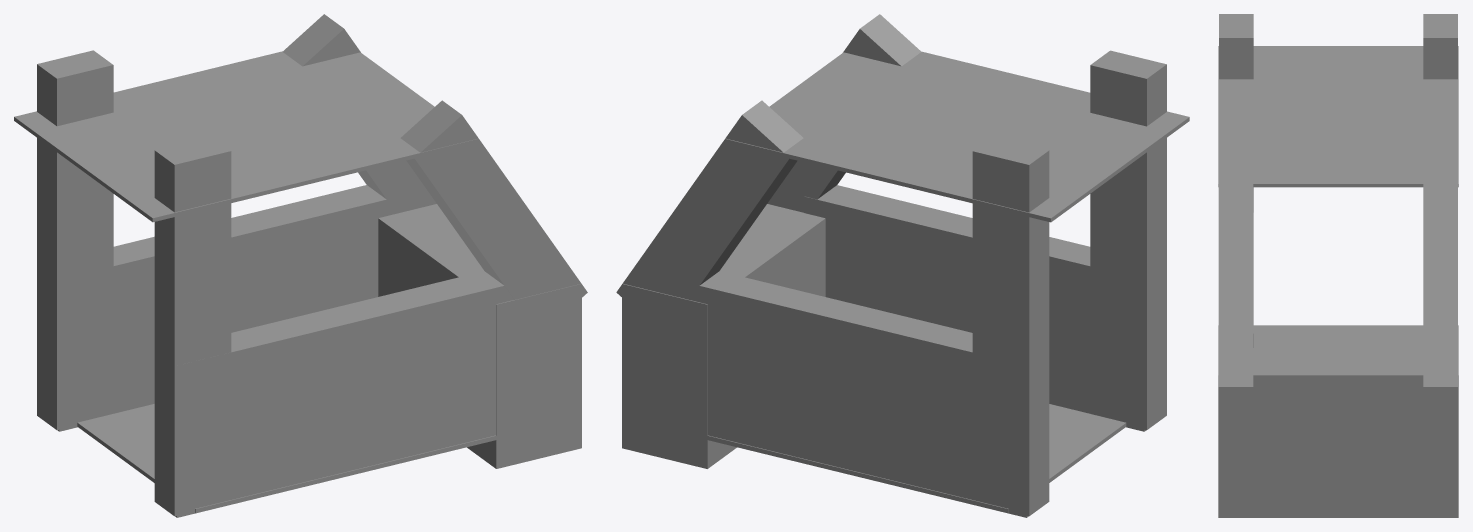
Rendered from interior.obj.
3 renders of one model, left to right at view 1: azimuth 30°, elevation 25°; view 2: azimuth 150°, elevation 25°; view 3: azimuth 270°, elevation 25°, orthographic. The views are drawn at different scales.
Parts seen in each view (by area): view 1: Cube.006, Cube.008, Cube.005, Cube.002, Cube.001, Cube.007, Cube, Cube.003, Cube.004; view 2: Cube.005, Cube.008, Cube.002, Cube.007, Cube.006, Cube.001, Cube.004, Cube.003, Cube; view 3: Cube.001, Cube.008, Cube, Cube.004, Cube.003, Cube.007, Cube.002.
Part boxes in pixels (<box>): Cube.006: <box>175,271,514,517</box>; Cube.008: <box>14,51,478,222</box>; Cube.005: <box>57,185,399,431</box>; Cube.002: <box>37,50,113,430</box>; Cube.001: <box>378,204,581,468</box>; Cube.007: <box>154,136,231,516</box>; Cube: <box>400,100,587,299</box>; Cube.003: <box>77,404,520,512</box>; Cube.004: <box>282,14,436,213</box>; Cube.005: <box>686,271,1028,517</box>; Cube.008: <box>725,51,1189,222</box>; Cube.002: <box>972,136,1049,516</box>; Cube.007: <box>1090,50,1166,430</box>; Cube.006: <box>804,185,1145,431</box>; Cube.001: <box>622,204,825,468</box>; Cube.004: <box>616,100,803,298</box>; Cube.003: <box>691,404,1126,512</box>; Cube: <box>767,14,921,212</box>; Cube.001: <box>1218,339,1458,517</box>; Cube.008: <box>1218,46,1458,187</box>; Cube: <box>1218,153,1253,387</box>; Cube.004: <box>1423,153,1457,387</box>; Cube.003: <box>1218,325,1458,338</box>; Cube.007: <box>1219,14,1253,212</box>; Cube.002: <box>1423,14,1457,79</box>.
Size of the model in its own units: 5.23 by 4.39 by 2.89.
